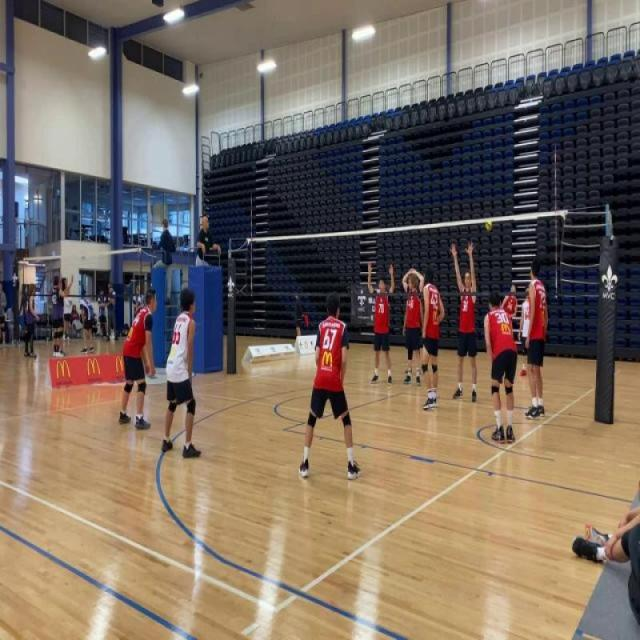volleyball: (486, 219, 494, 234)
